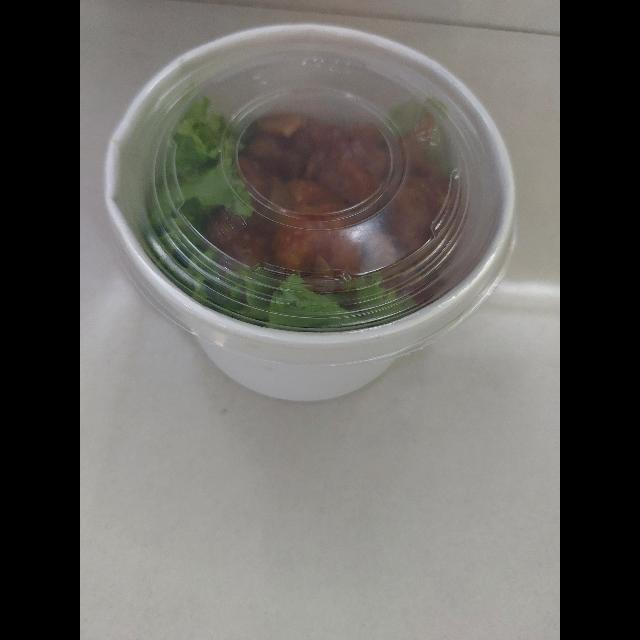rice-bowl: (90, 11, 533, 429)
